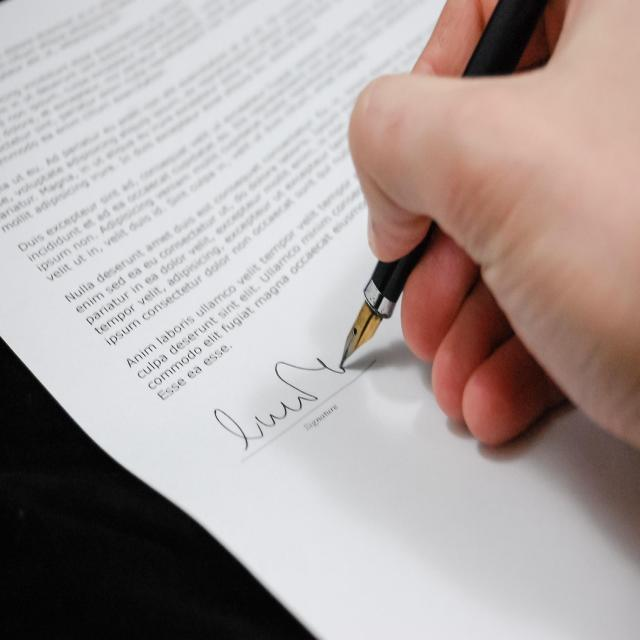notebook: (0, 0, 353, 578)
